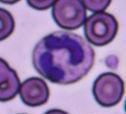N: (32, 30, 94, 84)
